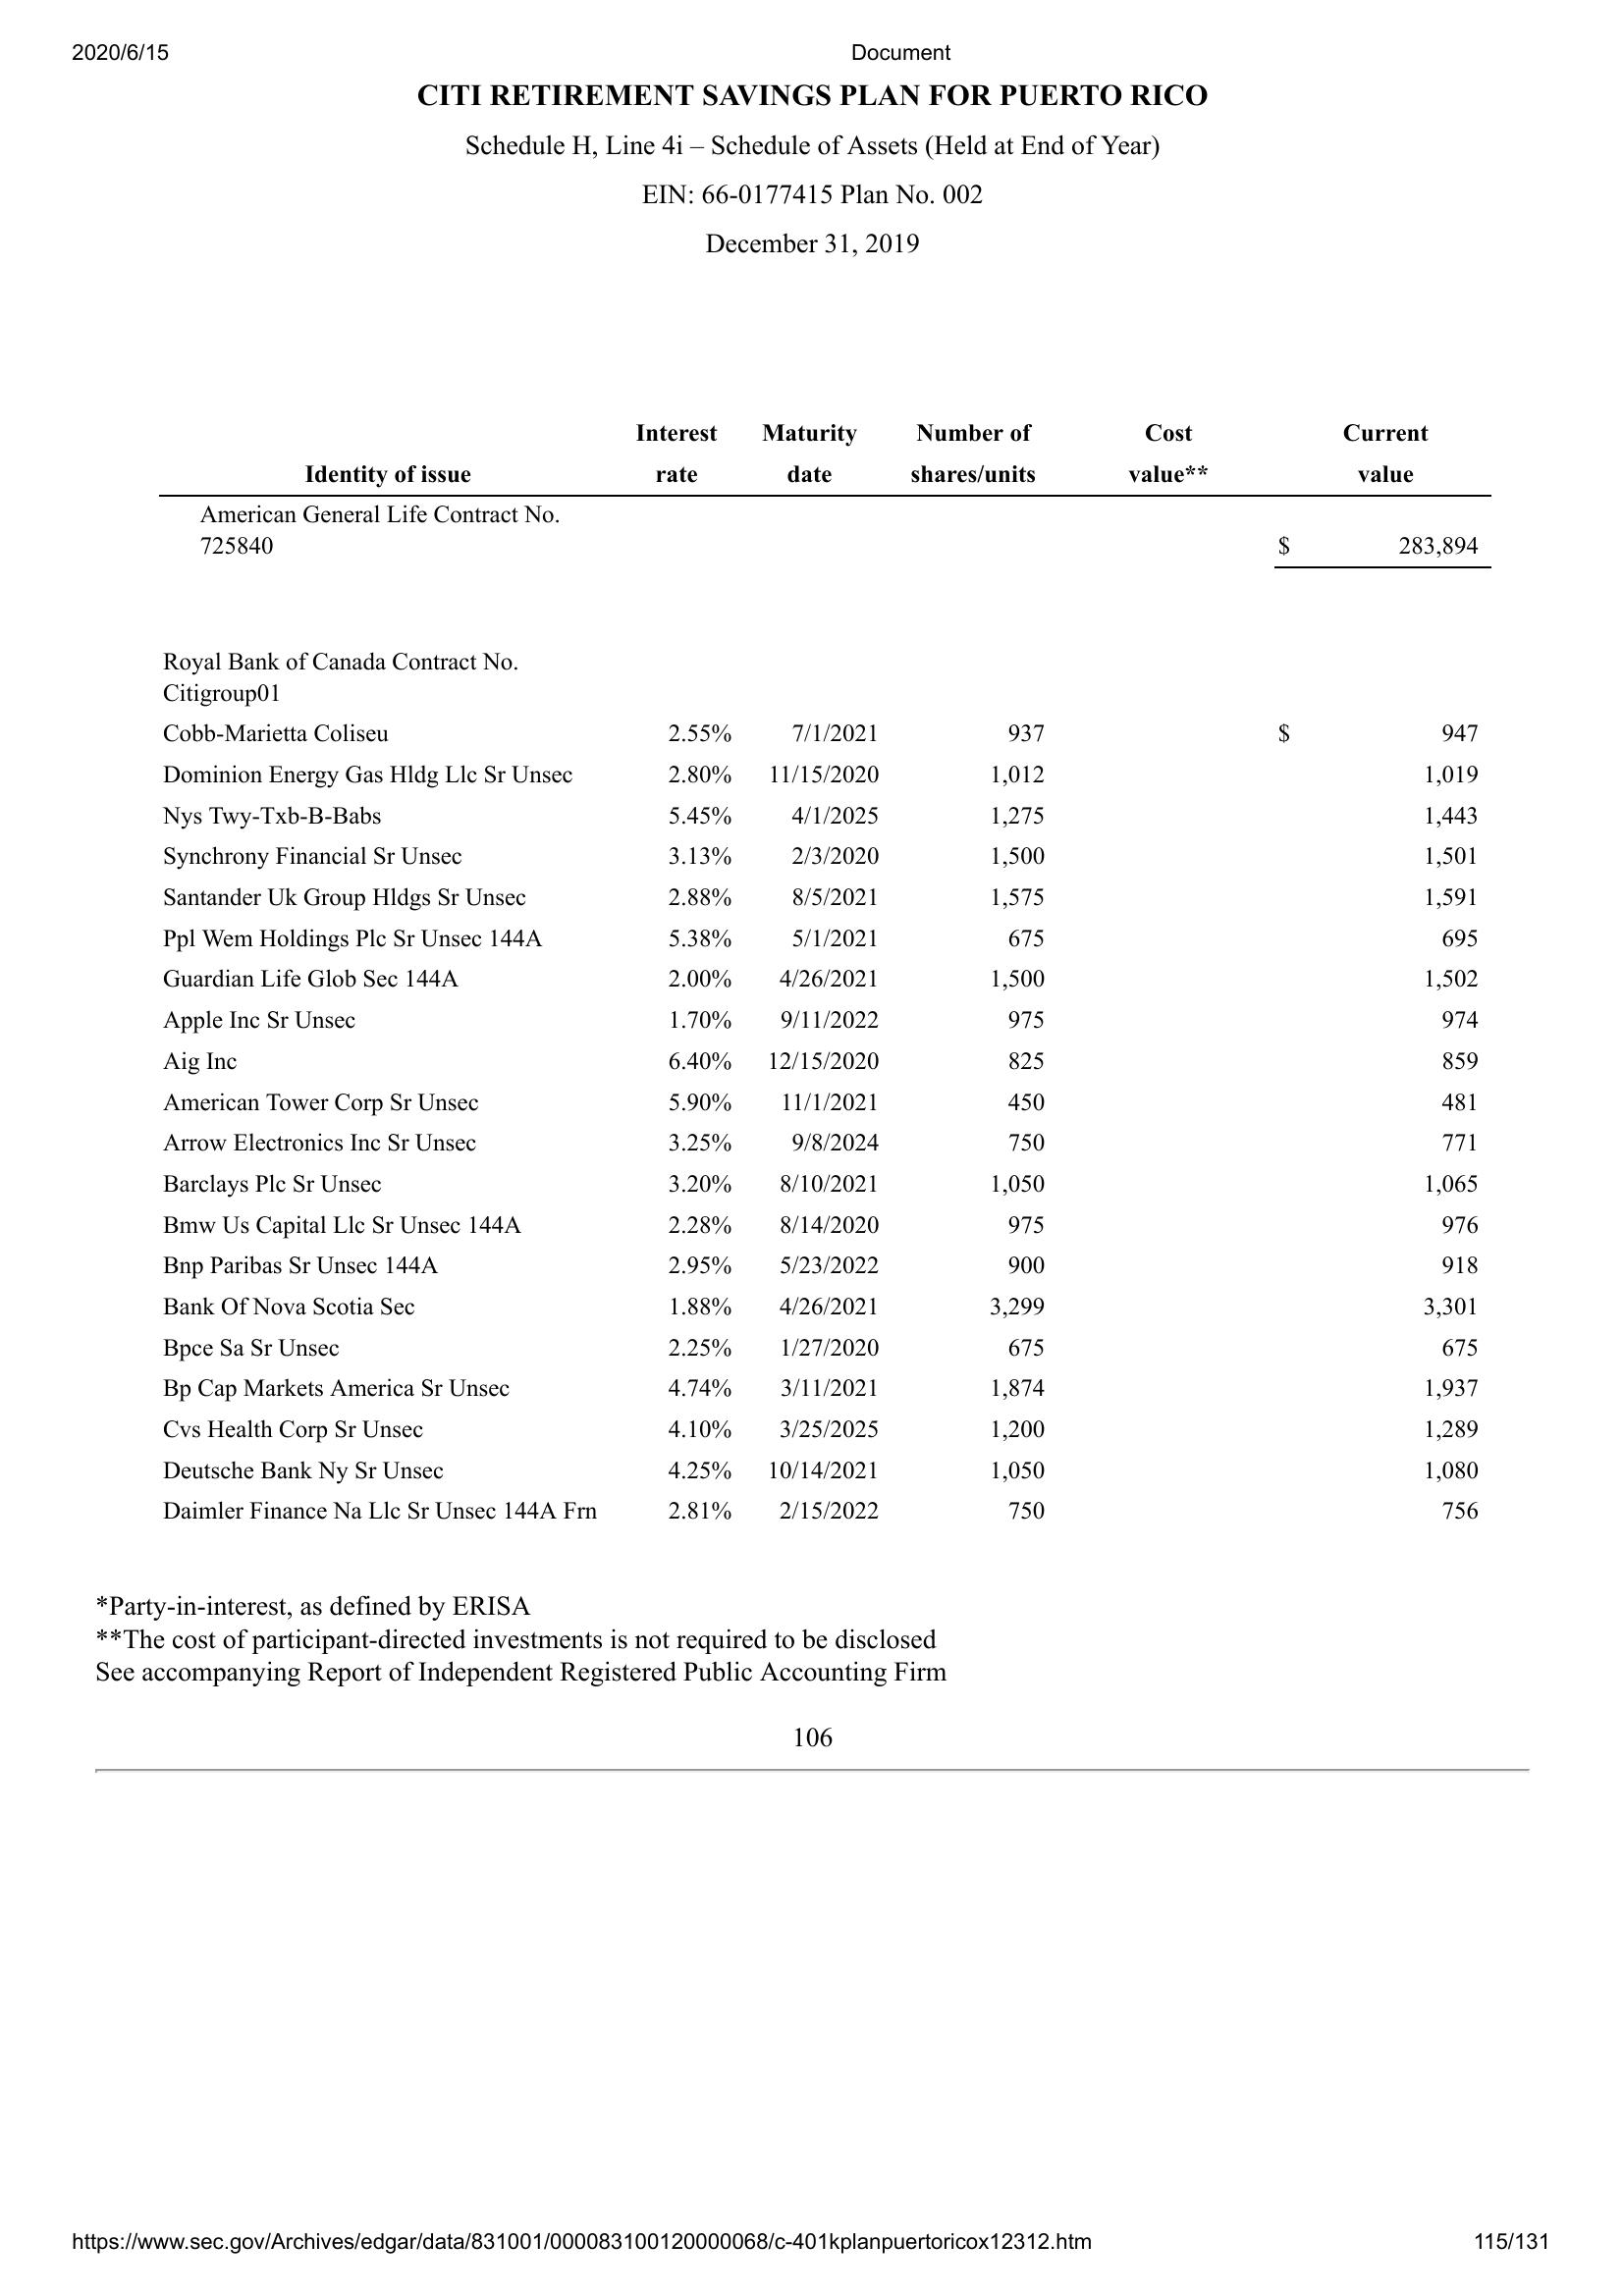table: (132, 421, 1498, 1527)
